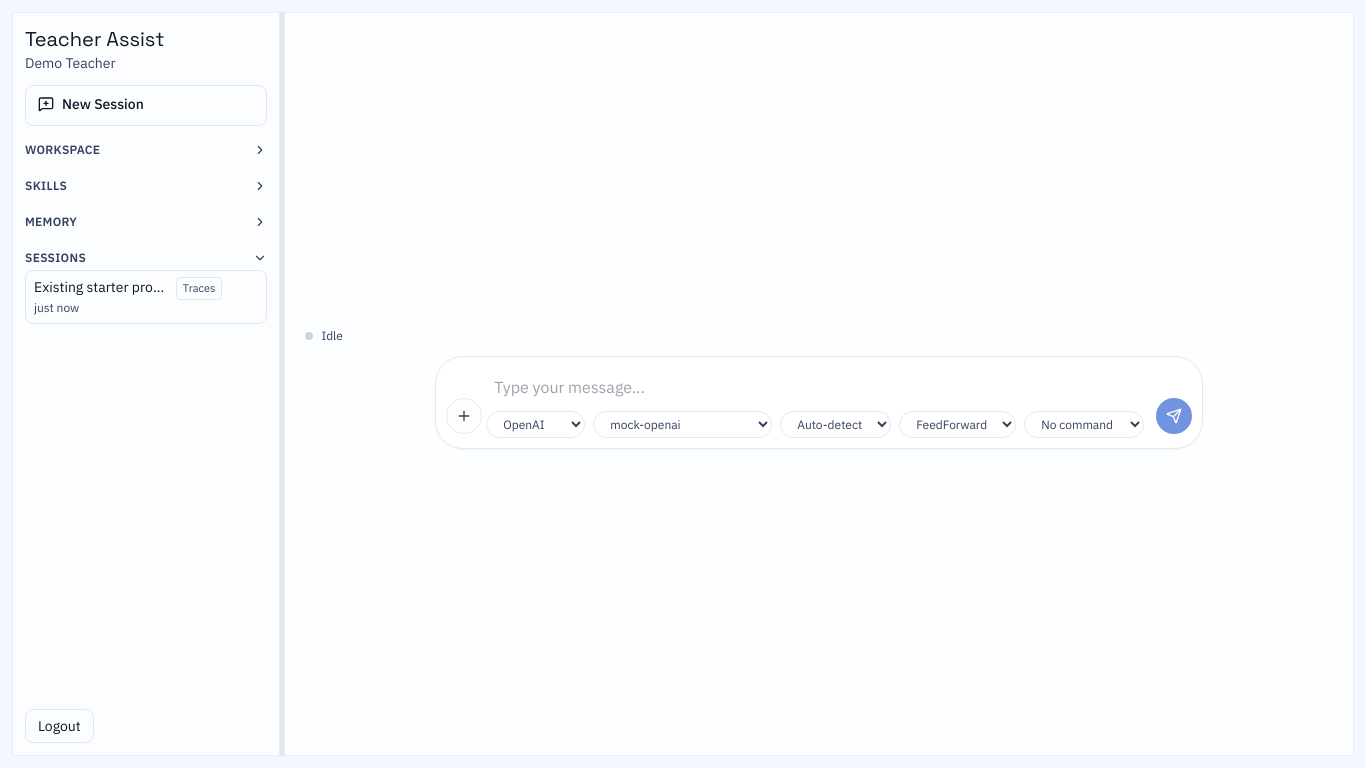
Test: App traces › filters and expands trace spans
Expected: the text "Existing starter prompt" is shown, [34,277,168,297]
Click the button "Traces" at (199, 288), box [176,277,222,300]
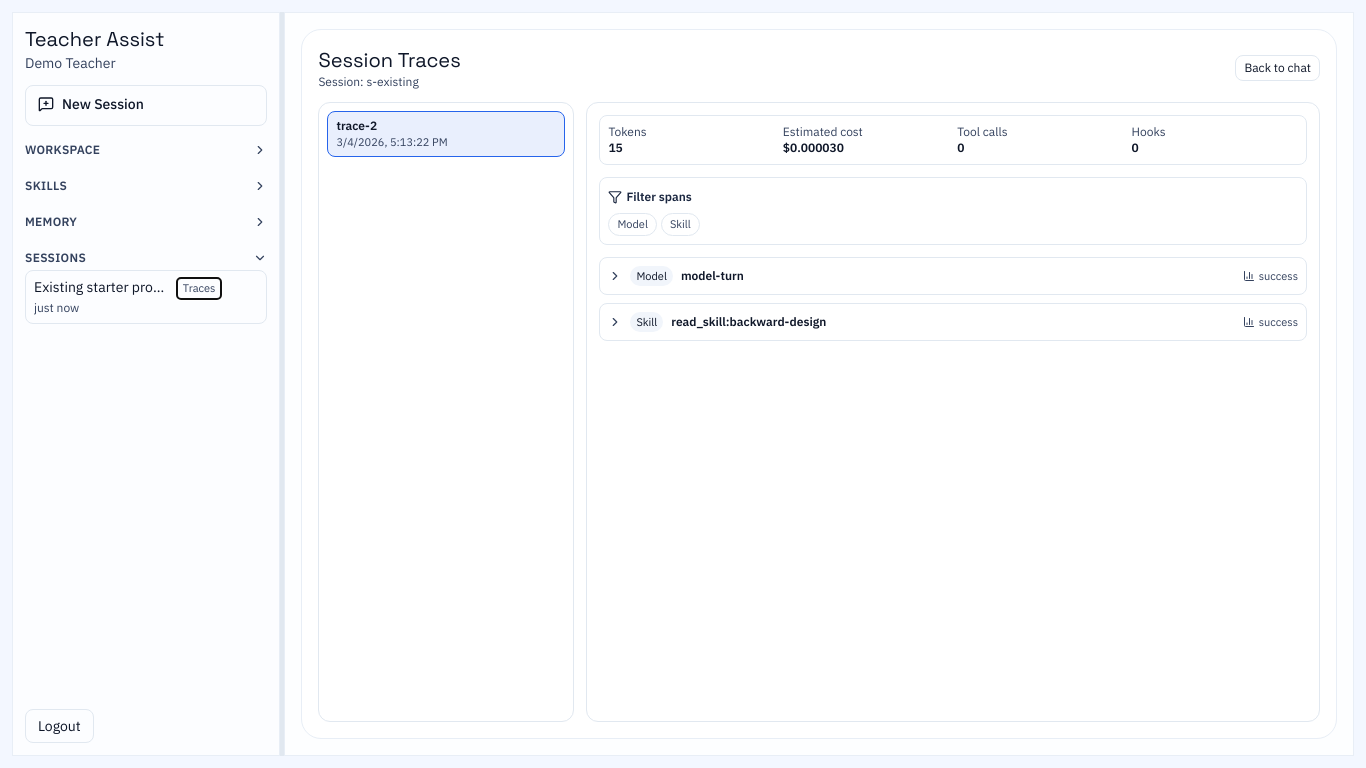
Click the button "Skill" at (680, 224), box [661,213,700,236]
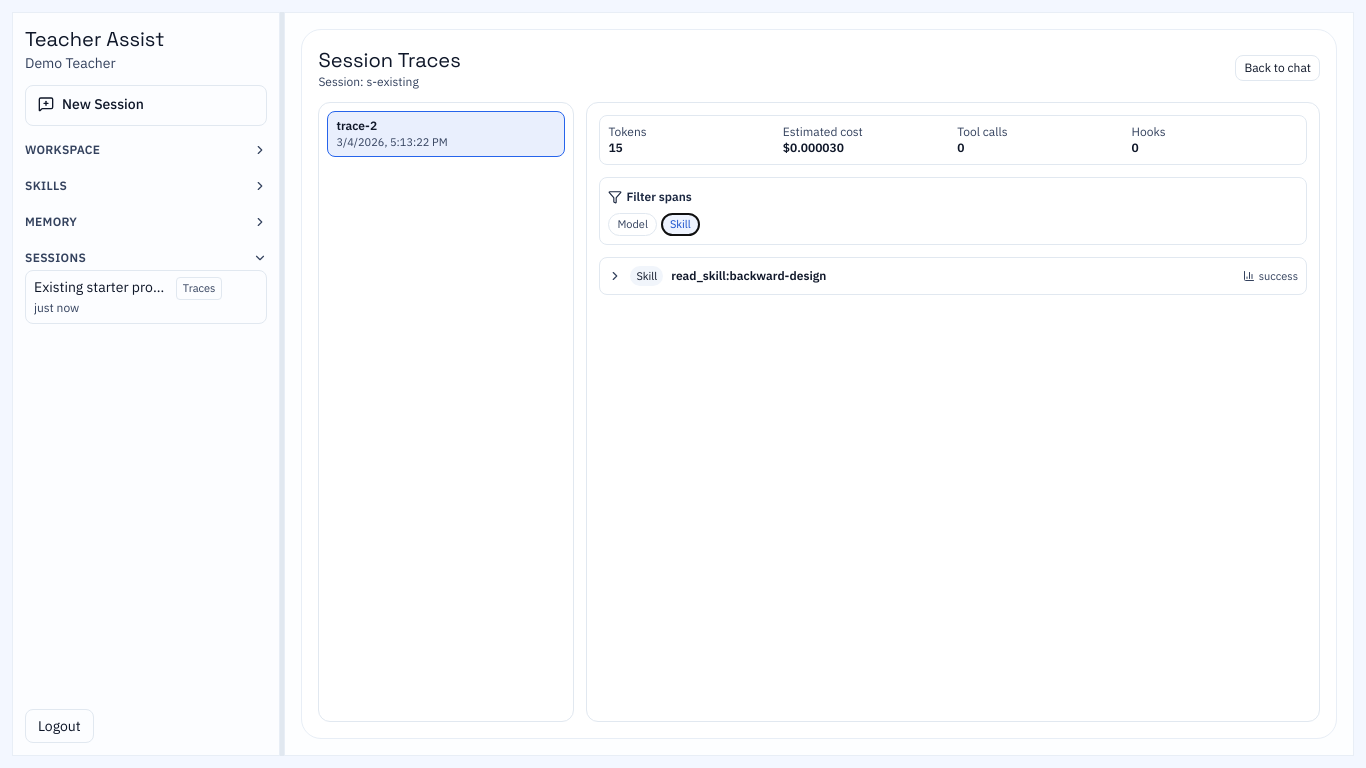
Expected: the button "model-turn" is gone
Click the text "read_skill:backward-design" at (749, 276), box [671,268,826,284]
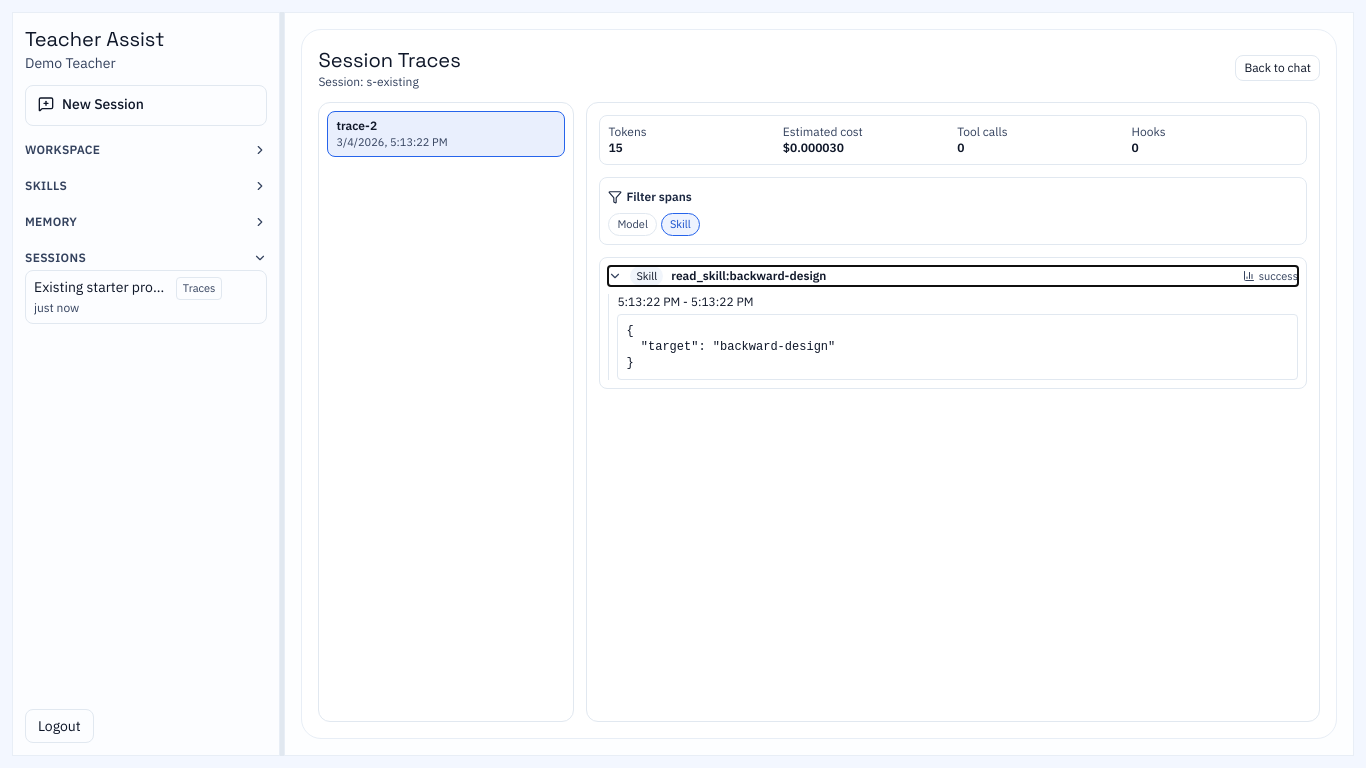
Expected: the text "{ \"target\": \"backward-design\" }" is shown, [617,314,1298,380]
